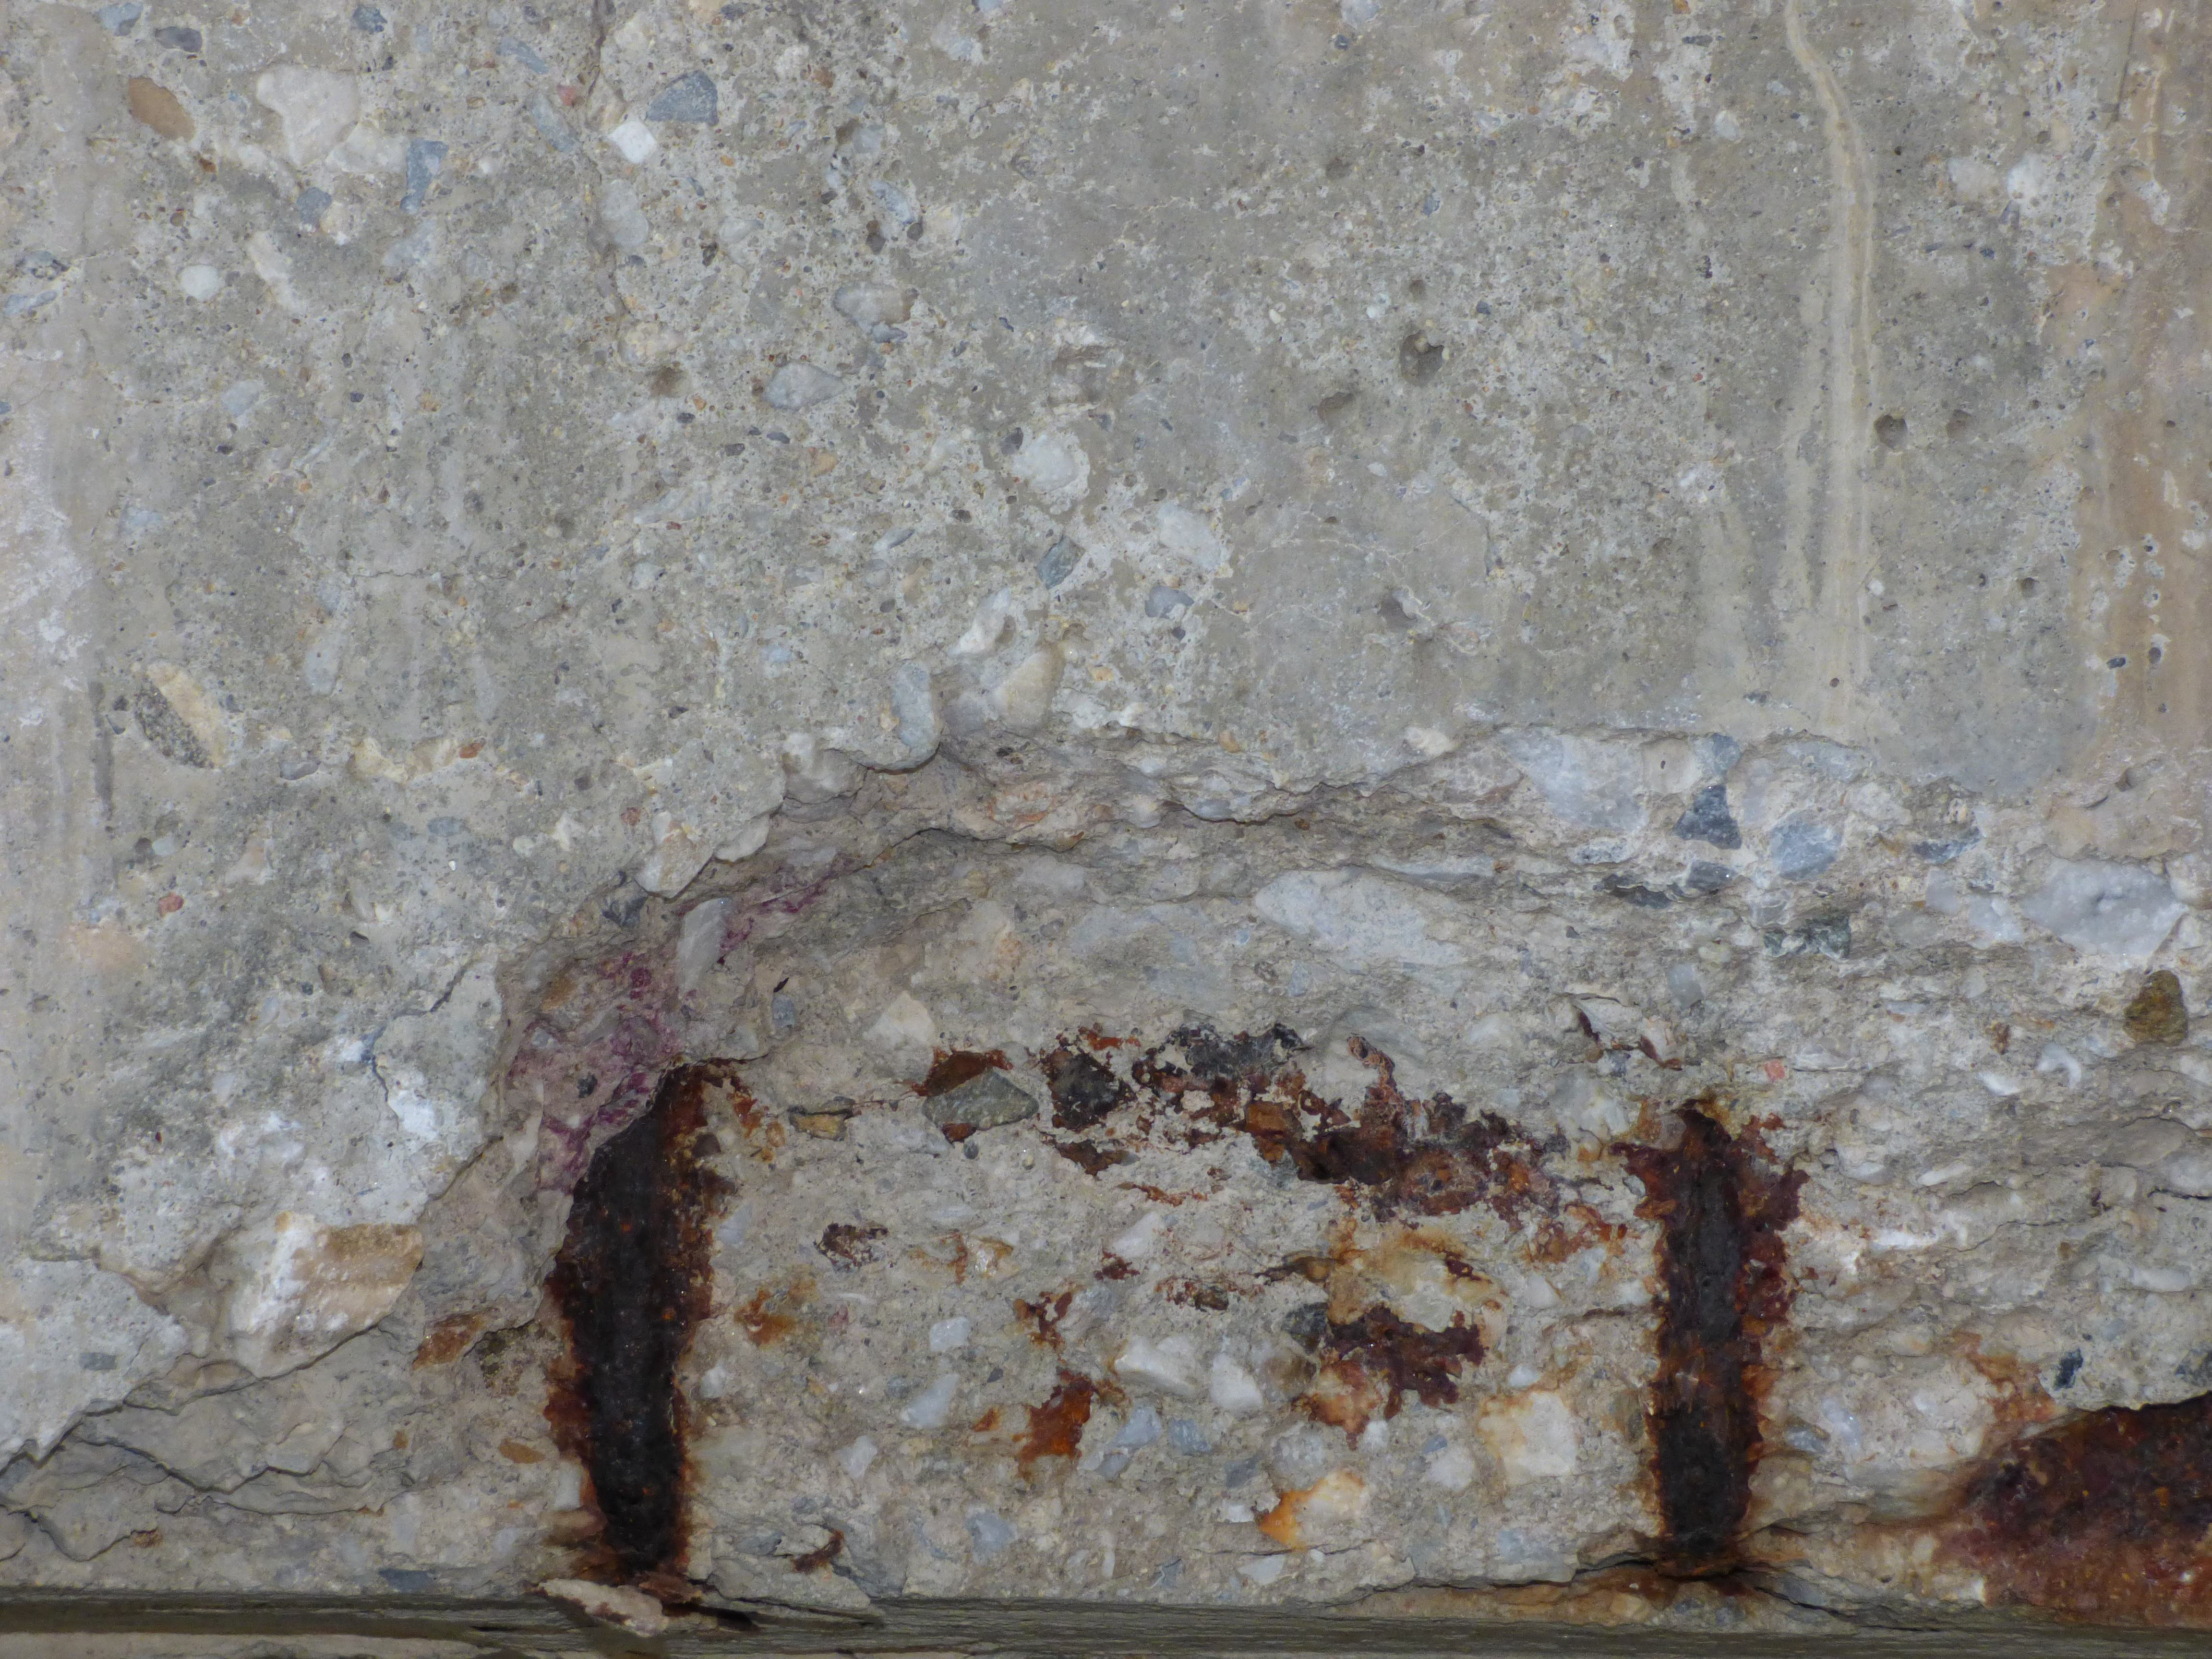Corrosion: (902, 1021, 1627, 1265), (1853, 1328, 2212, 1631), (1254, 1234, 1510, 1452), (1012, 1368, 1127, 1485), (733, 1272, 817, 1347), (1256, 1478, 1329, 1549), (1010, 1290, 1071, 1364), (1155, 1276, 1230, 1312), (1092, 1249, 1141, 1283), (972, 1406, 1000, 1432)
Exposed reinforcement: (545, 1063, 738, 1570), (1649, 1107, 1770, 1549)
Spalling: (0, 711, 2212, 1659)
